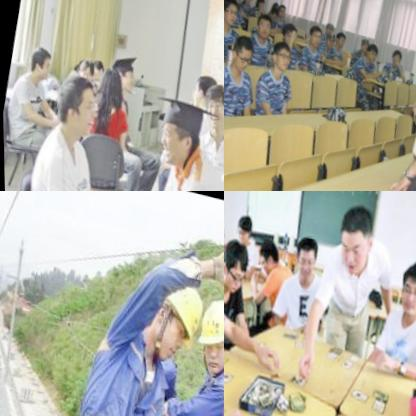head: (145, 85, 207, 173), (47, 66, 102, 141), (330, 195, 378, 271), (286, 224, 320, 279), (194, 73, 224, 132), (90, 60, 124, 110), (224, 229, 249, 294), (392, 247, 416, 314), (183, 62, 214, 112), (104, 47, 136, 92), (251, 230, 281, 273), (23, 40, 53, 80), (227, 32, 254, 71), (267, 34, 292, 70), (70, 51, 94, 85), (233, 207, 253, 243), (84, 51, 105, 85), (252, 8, 272, 38), (277, 18, 297, 46), (306, 20, 323, 46), (362, 36, 379, 60), (386, 41, 402, 62), (224, 0, 237, 24), (357, 32, 371, 52), (322, 26, 335, 47), (332, 26, 346, 45), (321, 16, 334, 34), (266, 2, 278, 20), (274, 0, 285, 18), (252, 0, 264, 8)
helmet: (142, 269, 212, 368), (187, 282, 224, 379)
